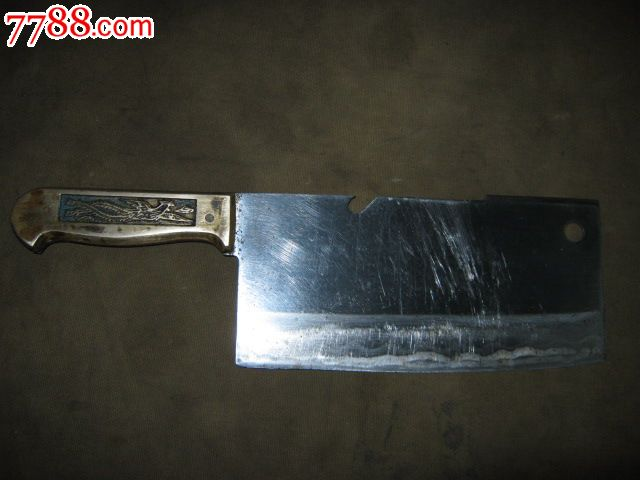knief: (15, 176, 613, 372)
